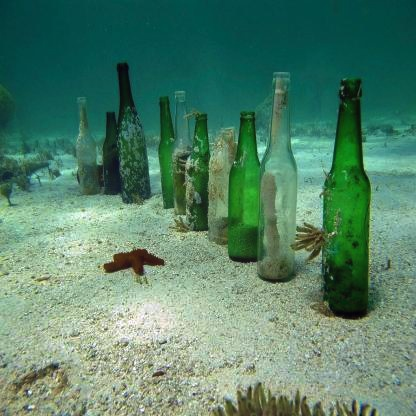gbottle: (326, 76, 369, 322), (258, 70, 298, 284), (228, 111, 264, 264), (119, 60, 150, 204), (209, 129, 240, 244), (172, 88, 197, 216), (188, 115, 214, 233), (157, 94, 180, 209), (75, 97, 99, 195), (102, 112, 122, 196)
